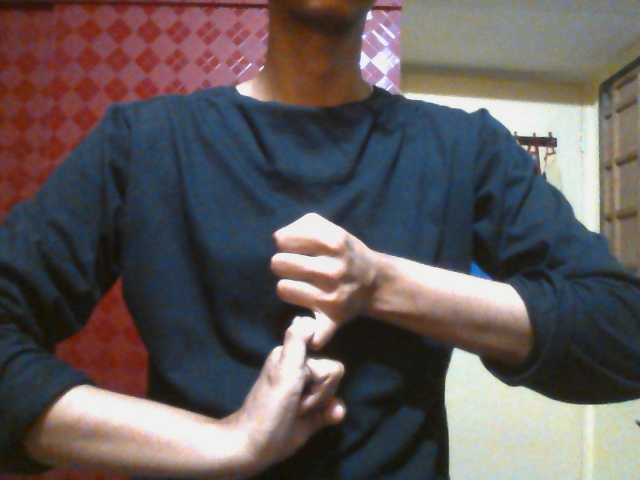S: (240, 208, 402, 467)
